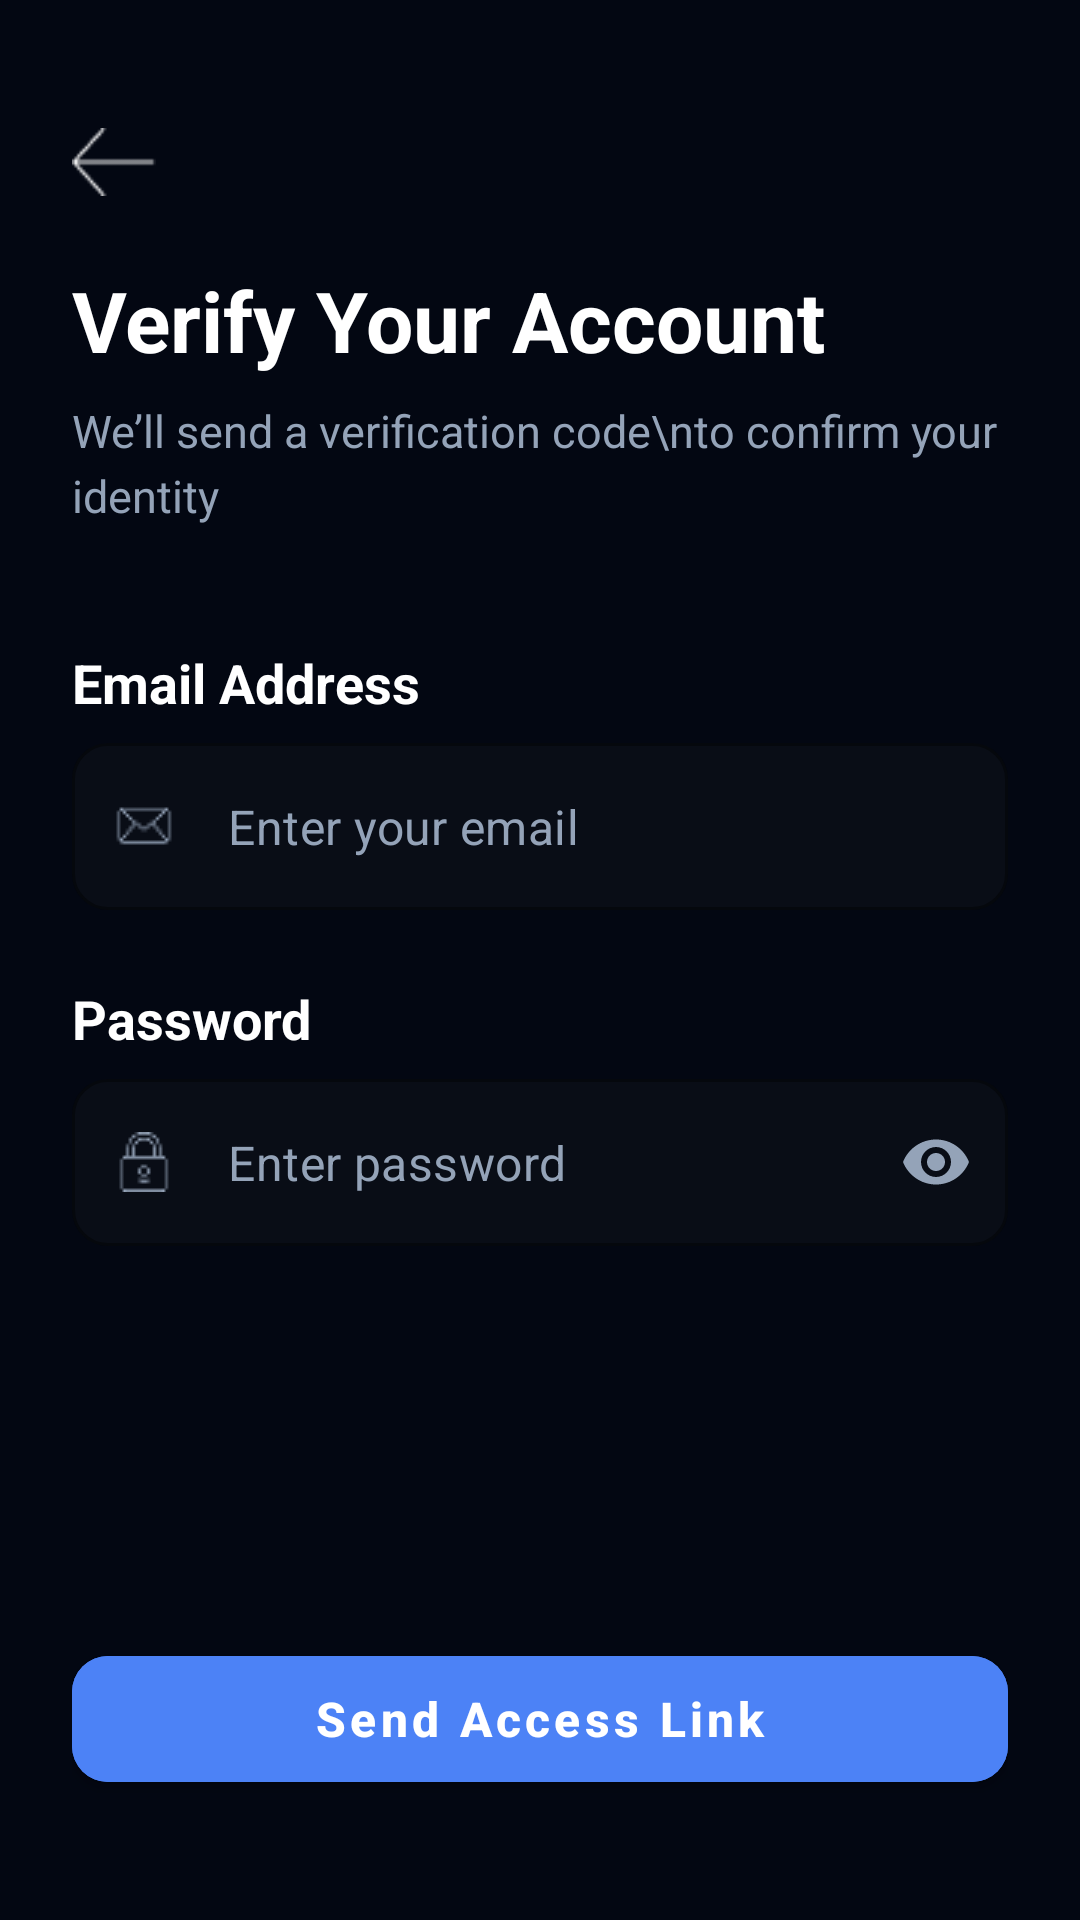

Icon click points for this 1080x1920 phone screenshot, format (x=x, y=y):
back arrow: (x=113, y=162)
